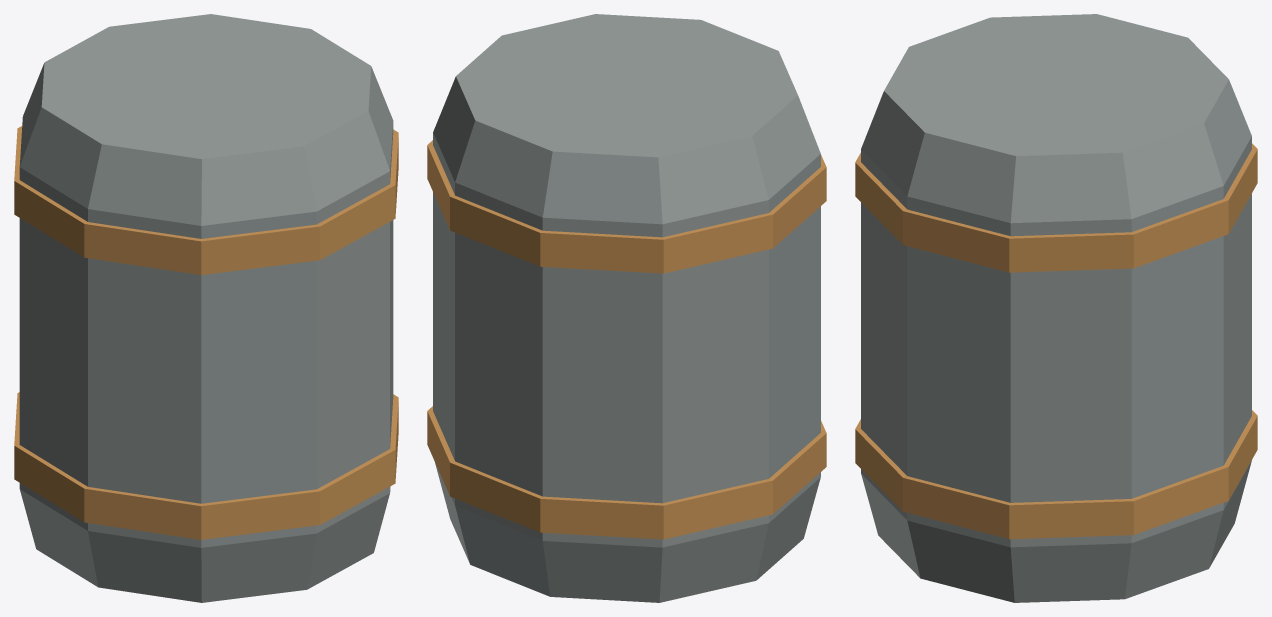
The model's file is SM_COM_PROP_001_Barrel.glb.
3 renders of one model, left to right at view 1: azimuth 30°, elevation 25°; view 2: azimuth 150°, elevation 25°; view 3: azimuth 270°, elevation 25°, orthographic.
Visible parts, largest first — view 1: SM_COM_PROP_001_Barrel; view 2: SM_COM_PROP_001_Barrel; view 3: SM_COM_PROP_001_Barrel.
Boxes of the visible parts, x1=… form: SM_COM_PROP_001_Barrel: x1=14, y1=14, x2=398, y2=602; SM_COM_PROP_001_Barrel: x1=427, y1=14, x2=826, y2=602; SM_COM_PROP_001_Barrel: x1=855, y1=14, x2=1257, y2=602.
Bounding box in the file's own units: 0.6807 × 0.85 × 0.6978.
